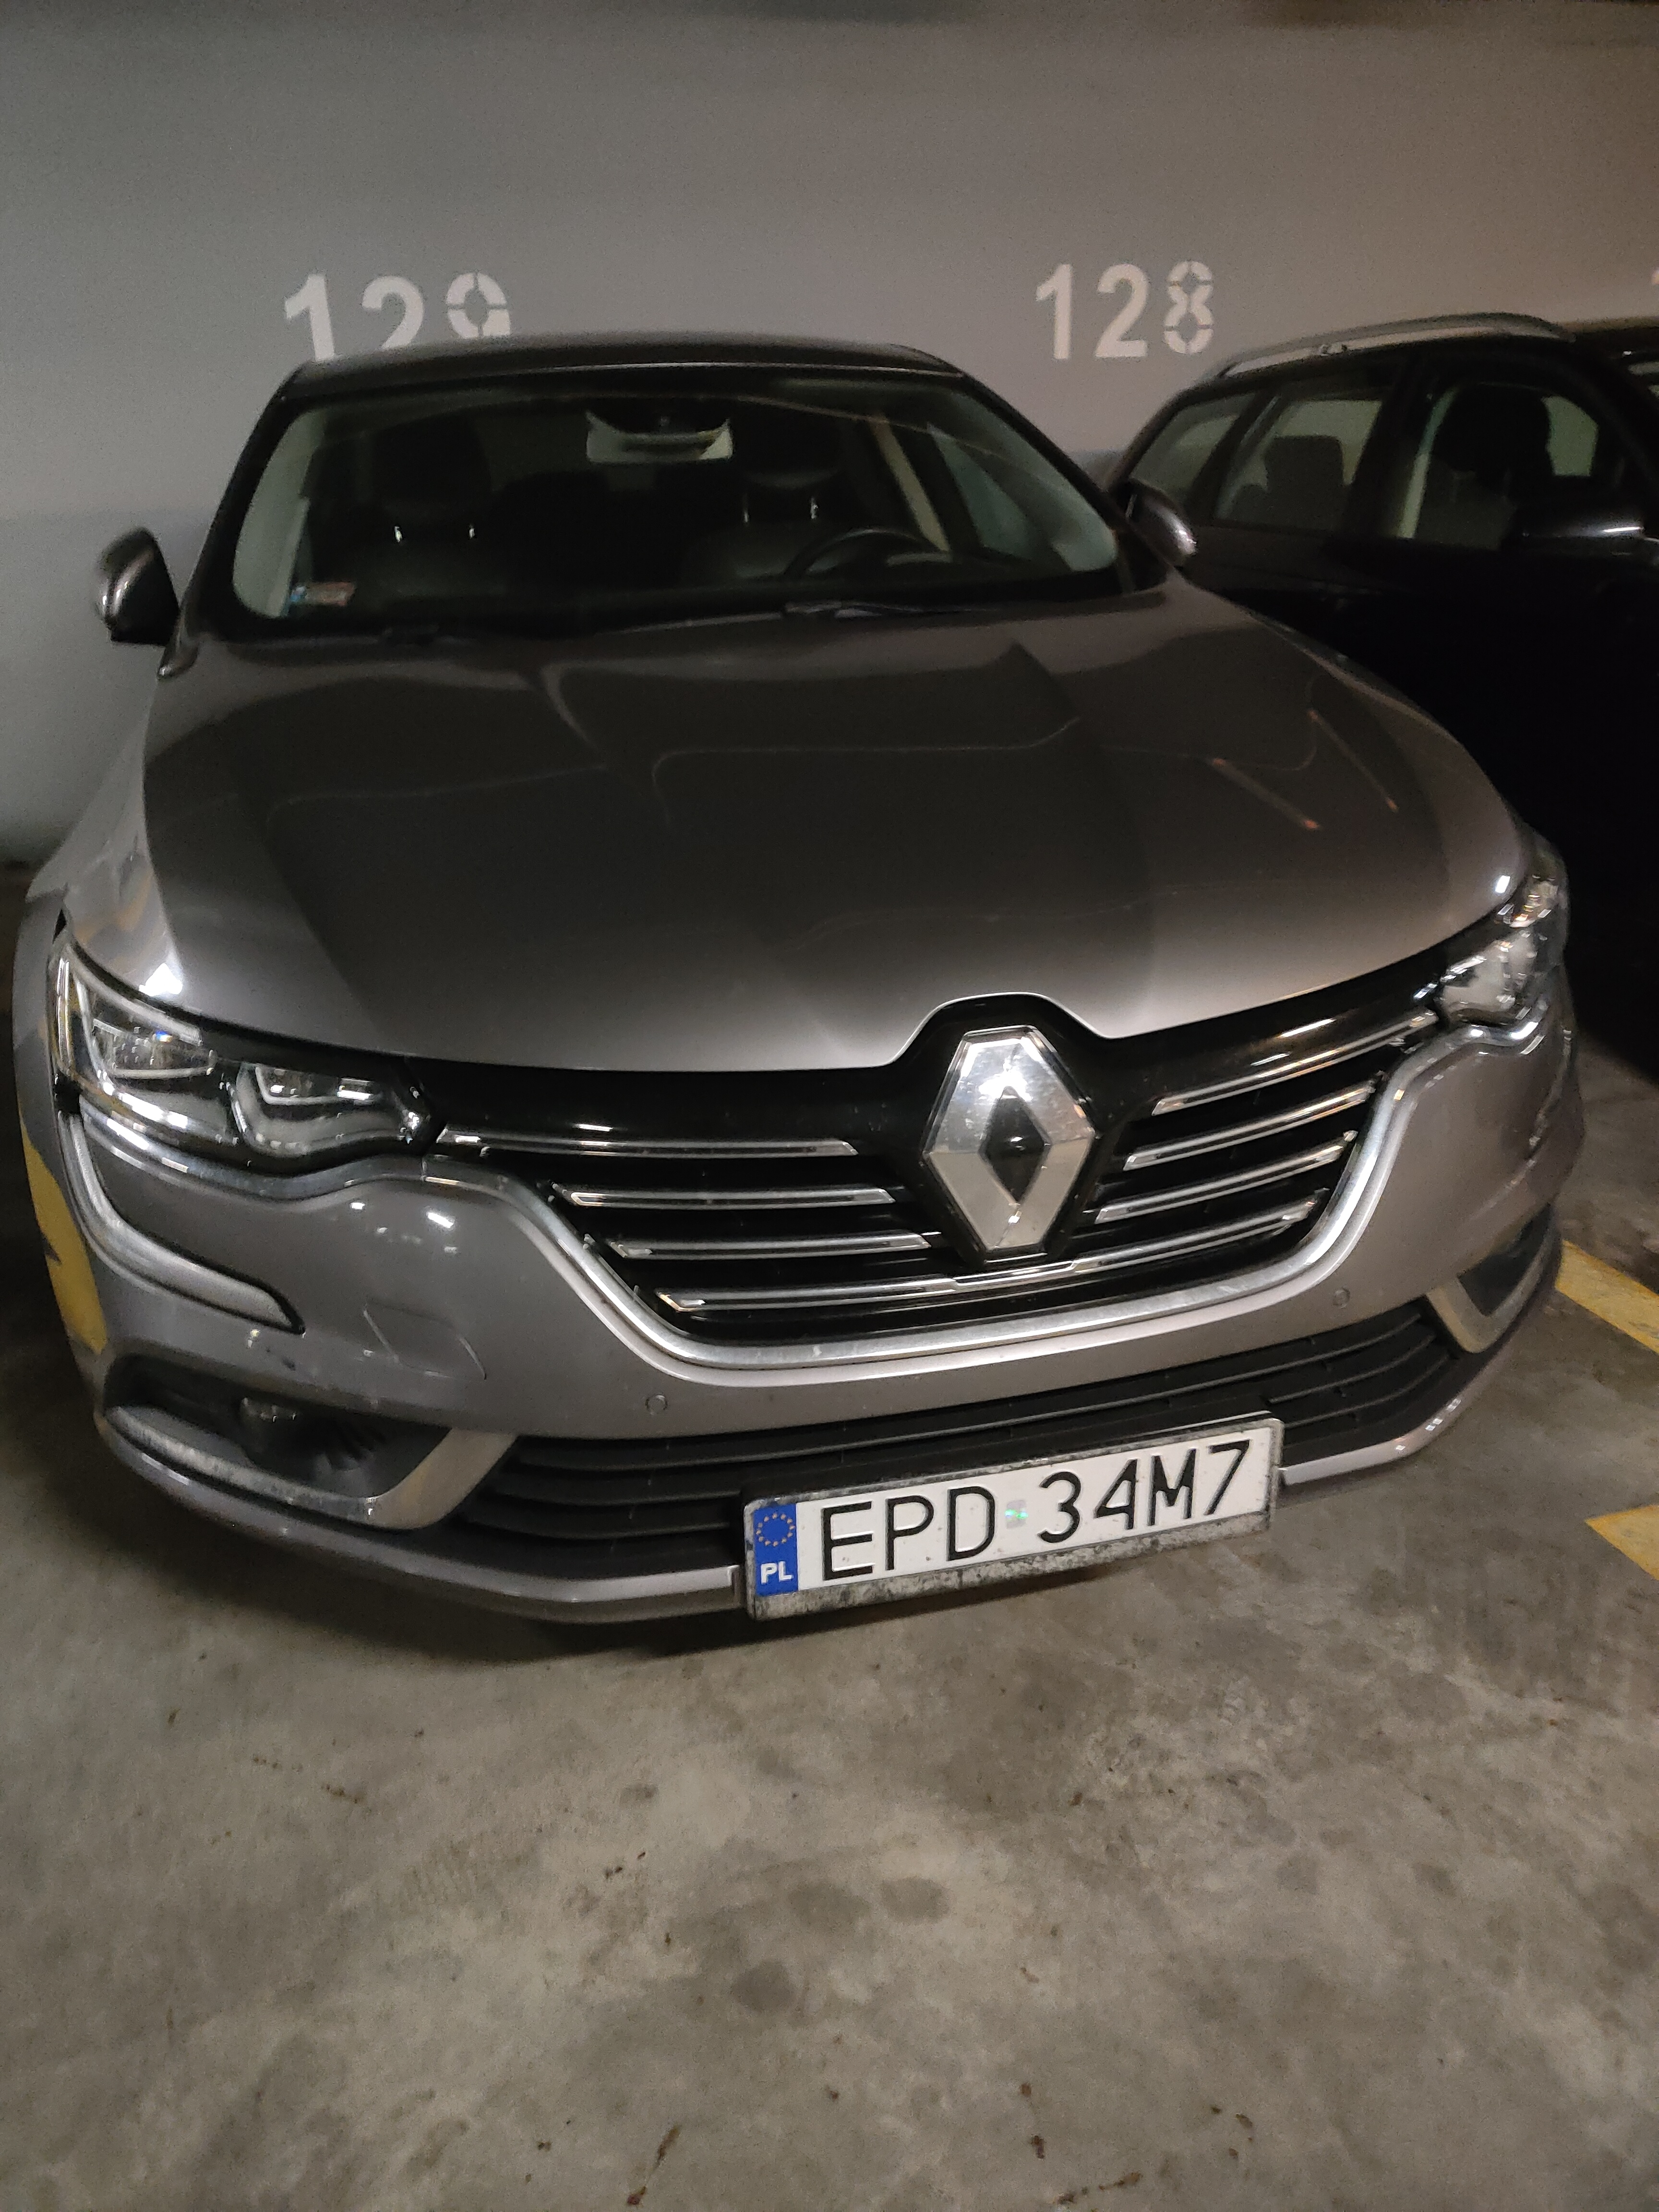number_plate: (736, 1411, 1288, 1624)
